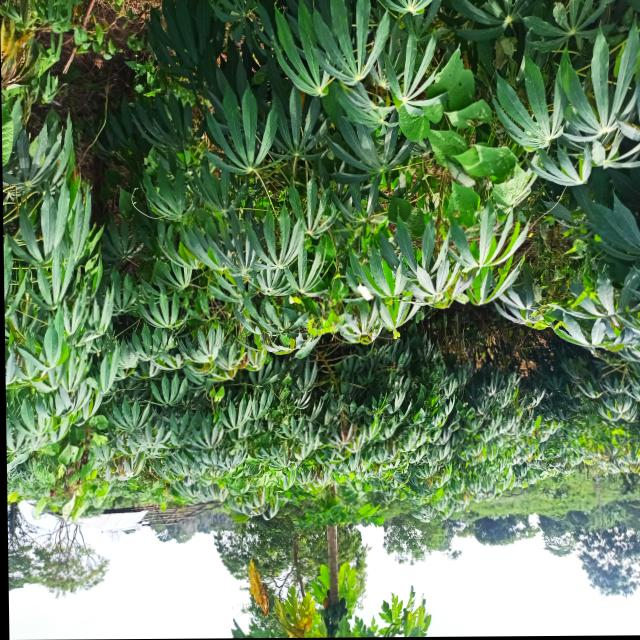Maleza: (438, 48, 488, 164), (444, 142, 517, 195), (392, 99, 449, 144)
Mosca: (516, 69, 531, 87), (148, 180, 164, 195), (263, 41, 279, 55)
